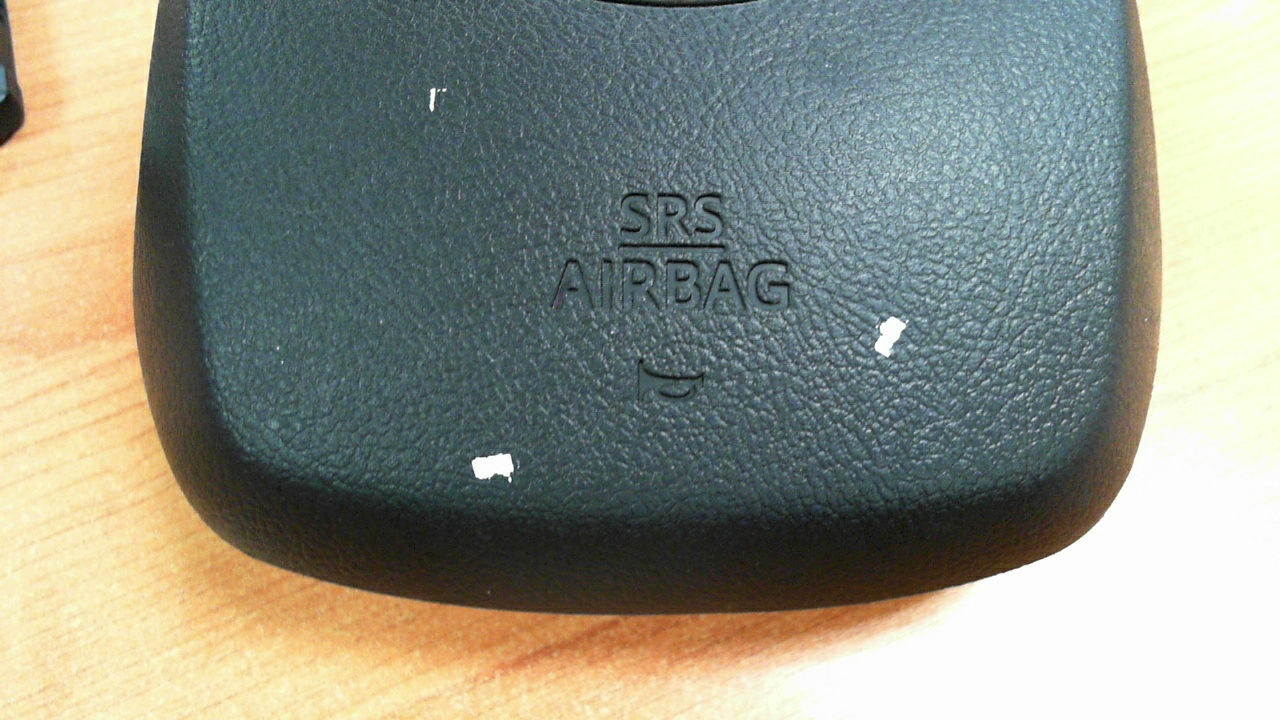Airbag: (129, 0, 1168, 616)
Mark: (874, 316, 908, 358), (472, 453, 516, 483), (429, 87, 447, 113)
